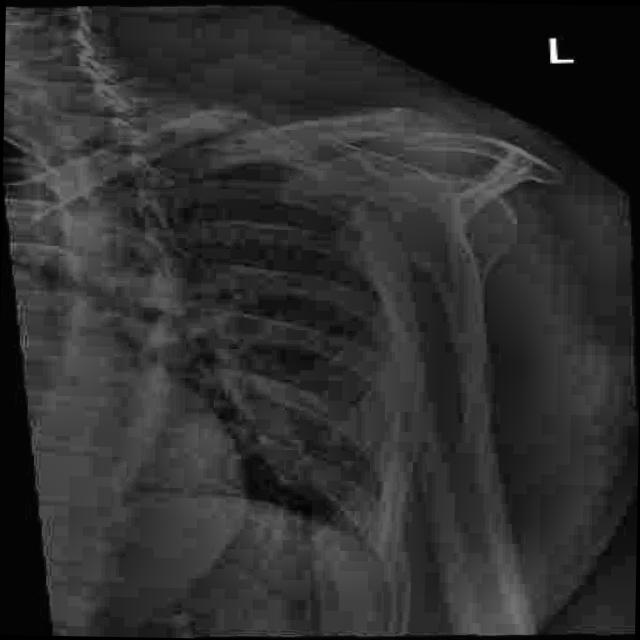shoulder fracture: (434, 363, 540, 471)
